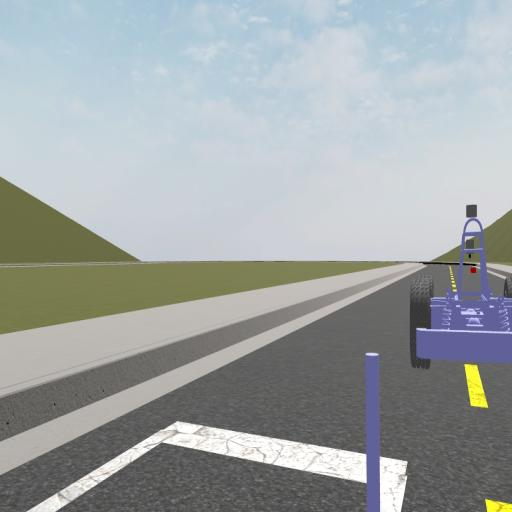ERP-42: (409, 204, 510, 374)
